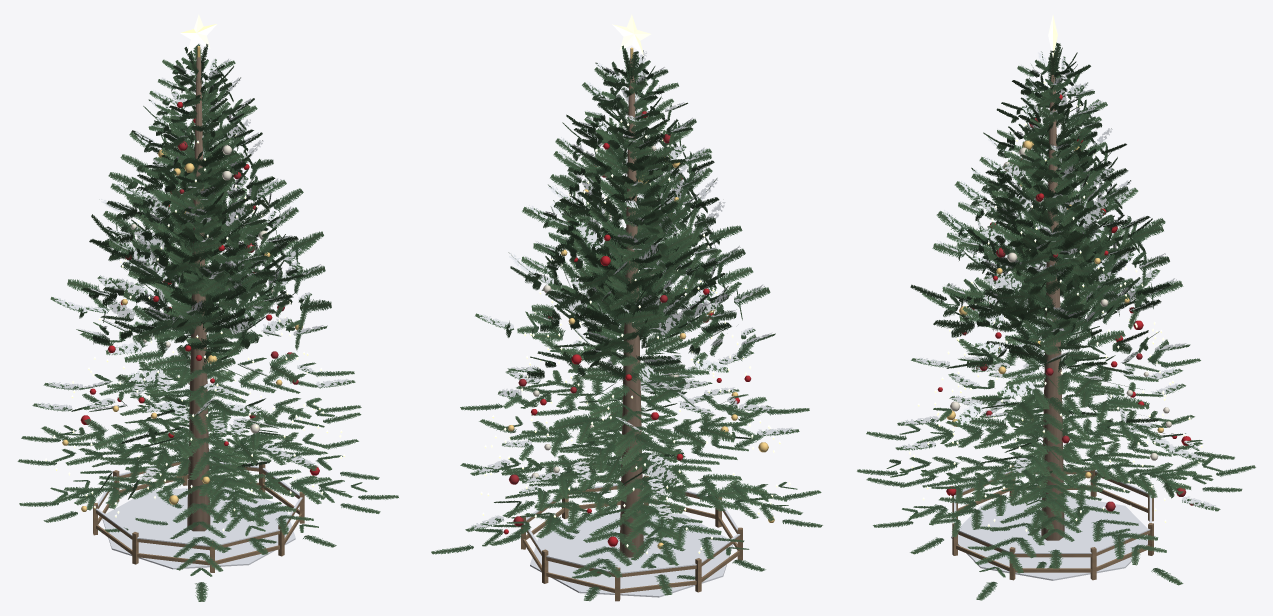
File: tree.lite.glb
3 views of the same model, side by side, from view 1: azimuth 30°, elevation 25°; view 2: azimuth 150°, elevation 25°; view 3: azimuth 270°, elevation 25° (orthographic). The views are drawn at different scales.
Parts seen in each view (by area): view 1: tree_needles, snow_tree, snow_tree_fence, tree_trunk, tree_fence, bulbs_tree, tree_baubles_gold, tree_baubles_red, bulbs_star; view 2: tree_needles, snow_tree, snow_tree_fence, tree_fence, tree_trunk, bulbs_tree, tree_baubles_red, bulbs_star, tree_baubles_gold; view 3: tree_needles, snow_tree, snow_tree_fence, tree_trunk, tree_fence, bulbs_tree, tree_baubles_red, tree_baubles_champ.
Part boxes in pixels (x1,y1,x2,y2): tree_needles: (17, 44, 398, 601); snow_tree: (37, 58, 351, 481); snow_tree_fence: (95, 458, 302, 569); tree_trunk: (187, 56, 210, 531); tree_fence: (93, 457, 304, 572); bulbs_tree: (45, 117, 345, 531); tree_baubles_gold: (62, 149, 302, 511); tree_baubles_red: (80, 102, 319, 475); bulbs_star: (180, 14, 216, 54); tree_needles: (431, 45, 822, 601); snow_tree: (469, 51, 795, 529); snow_tree_fence: (523, 484, 740, 597); tree_fence: (521, 475, 742, 601); tree_trunk: (619, 59, 643, 557); bulbs_tree: (480, 71, 790, 554); tree_baubles_red: (503, 111, 751, 546); bulbs_star: (612, 14, 651, 55); tree_baubles_gold: (507, 156, 774, 548); tree_needles: (857, 42, 1255, 600); snow_tree: (899, 51, 1215, 508); snow_tree_fence: (951, 469, 1154, 580); tree_trunk: (1041, 61, 1064, 540); tree_fence: (952, 464, 1153, 580); bulbs_tree: (909, 80, 1202, 531); tree_baubles_red: (937, 94, 1193, 505); tree_baubles_champ: (950, 122, 1171, 460).
Bounding box in the file's own units: 10.43 × 15.67 × 10.67.
Materials: 10 (4 with a texture image).
